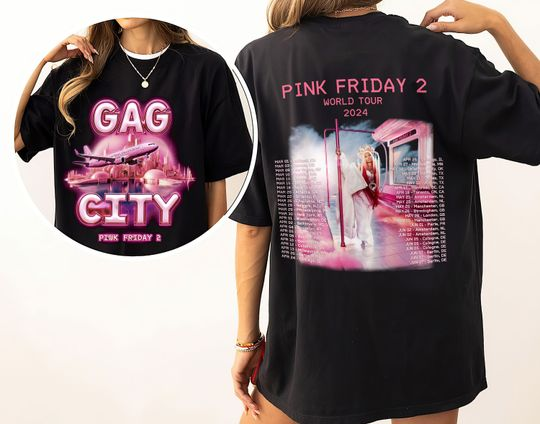design: (271, 75, 449, 275), (63, 96, 197, 244)
